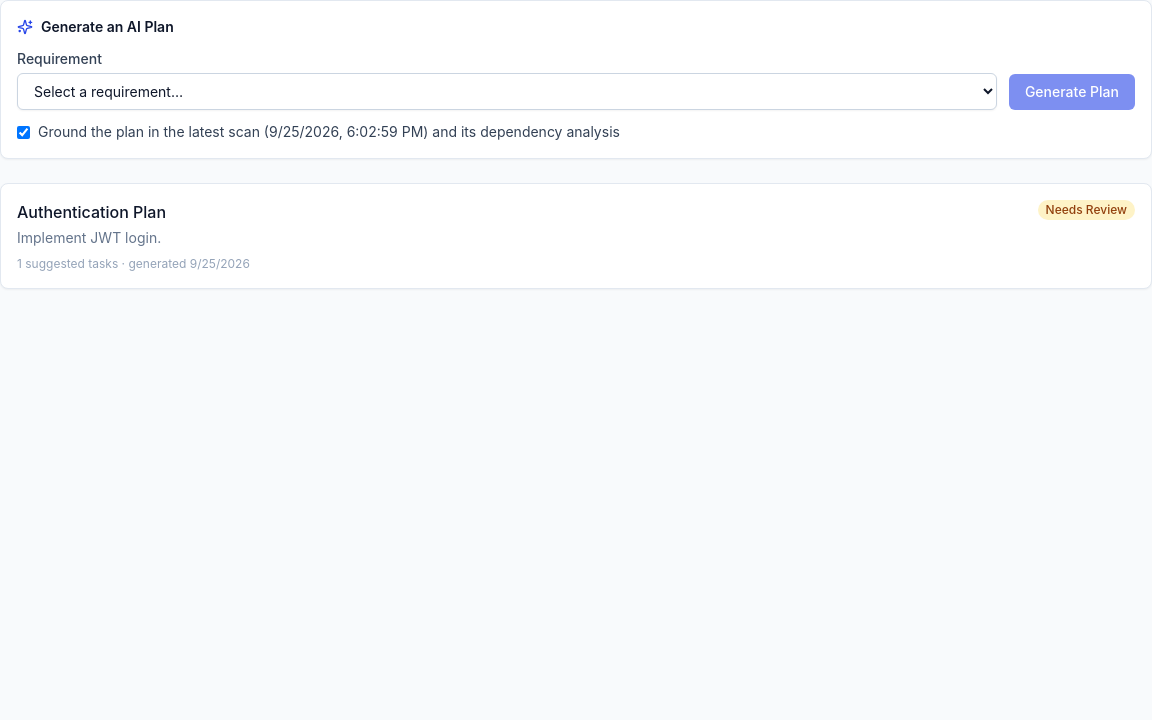
Test: ProjectPlansTab › separates the AI's claims from DevFlow's checks in the review dialog
Click the text "Authentication Plan" at (92, 212), box x1=17 y1=202 x2=166 y2=222
(page scrolled)
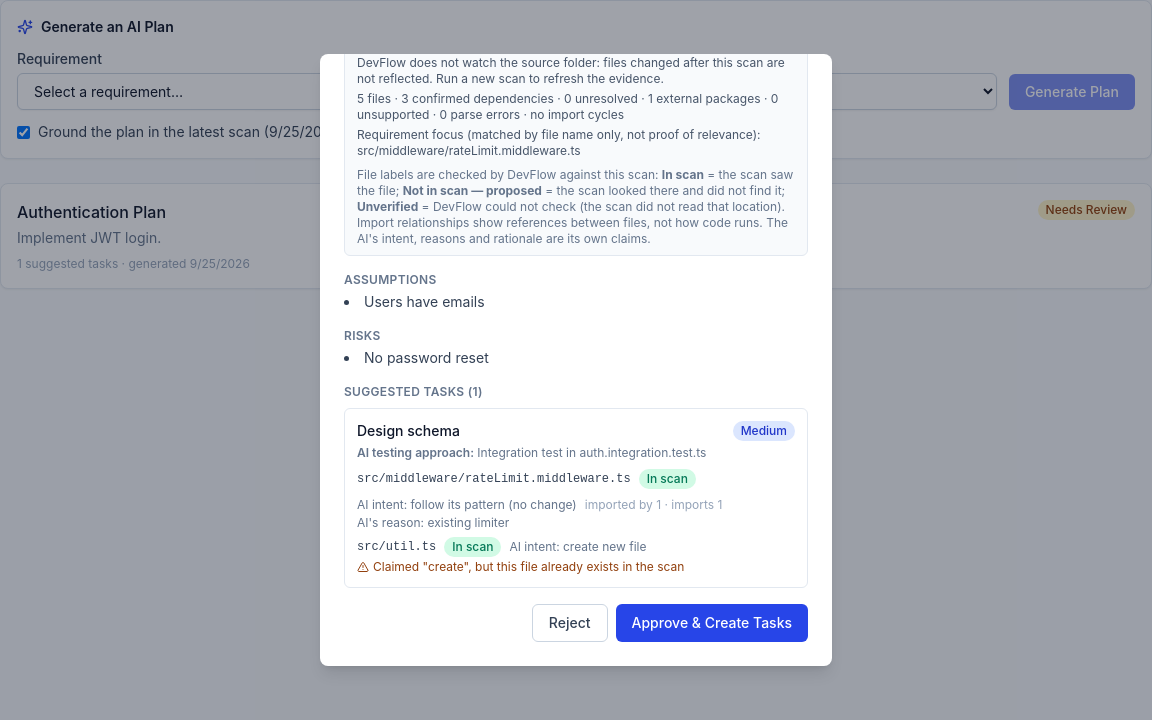
Result: the text "matched by file name only, not proof of relevance" shows "src/middleware/rateLimit.middleware.ts" at x1=357 y1=143 x2=581 y2=158
Result: the text "File labels are checked by DevFlow" is shown at x1=357 y1=167 x2=662 y2=182
Result: the text "Integration test in auth.integration.test.ts" is shown at x1=477 y1=445 x2=706 y2=460
